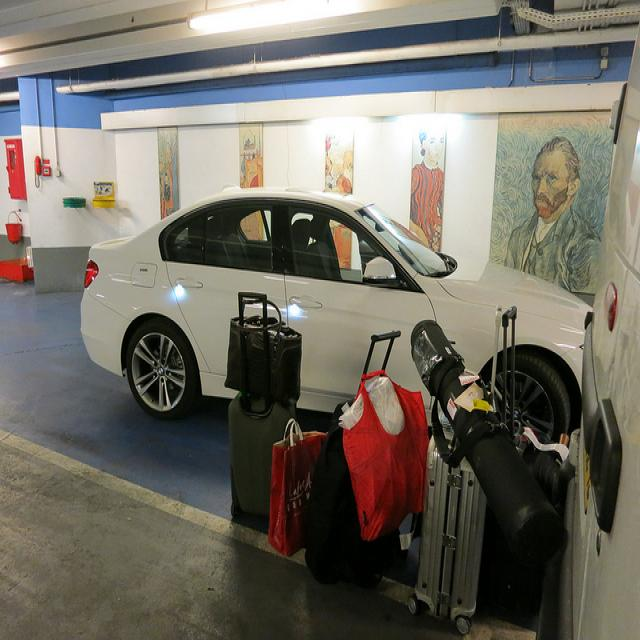Vehicle: (81, 190, 595, 437)
